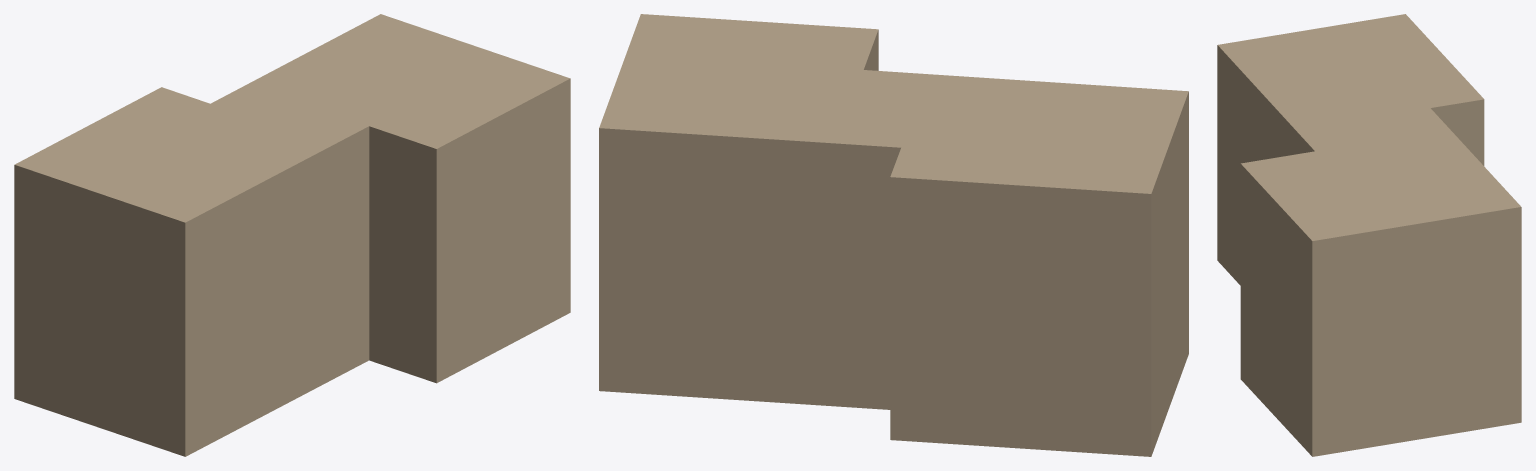
Rendered from bld_106306633.dae.
3 renders of one model, left to right at view 1: azimuth 30°, elevation 25°; view 2: azimuth 150°, elevation 25°; view 3: azimuth 270°, elevation 25°, orthographic. The views are drawn at different scales.
Visible parts, largest first — view 1: bld_106306633; view 2: bld_106306633; view 3: bld_106306633.
Part boxes in pixels (x1,y1,x2,y2): bld_106306633: (14, 14, 570, 456); bld_106306633: (599, 14, 1188, 456); bld_106306633: (1217, 14, 1521, 456).
Bounding box in the file's own units: 18.06 × 10.21 × 8.
